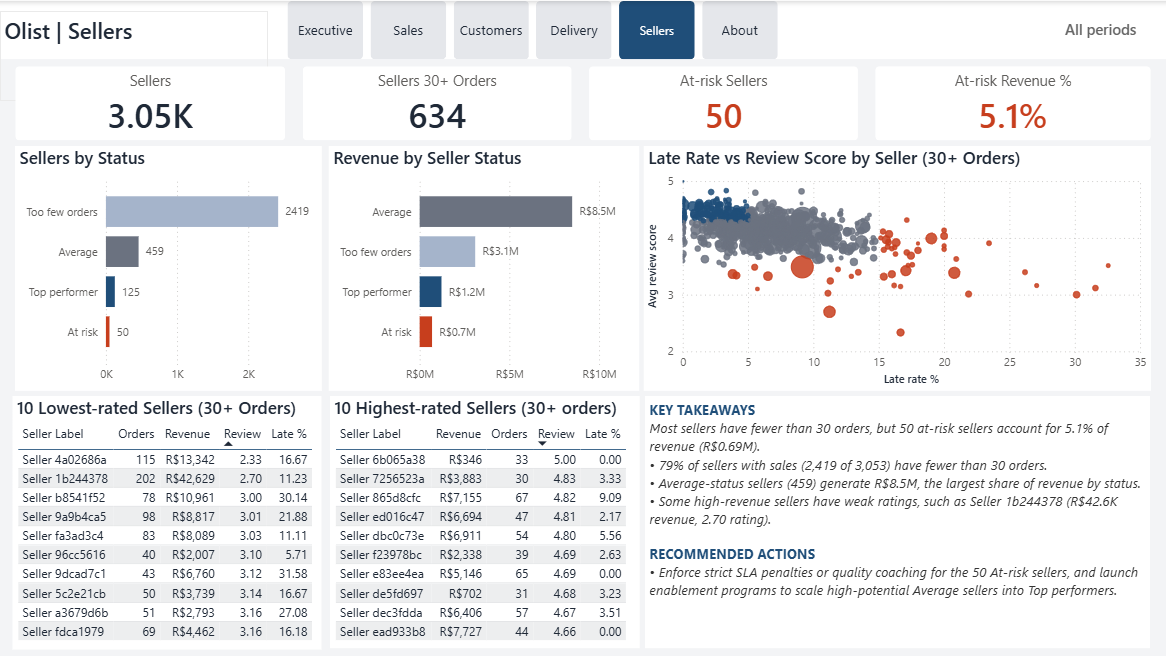

The page's visual inventory and layout, read from the dashboard file:
{"tool":"powerbi","page":{"name":"Sellers","canvas":[1280,720],"ordinal":4},"visuals":[{"type":"shape","box":[0,0,1280.3,63.8],"z":0},{"type":"textbox","box":[0,10.9,294,99.6],"z":1000},{"type":"pageNavigator","box":[315.6,0,541.1,64.4],"z":2000},{"type":"textbox","box":[1136.1,15.4,143.9,49.9],"z":3000},{"type":"cardVisual","fields":{"Data":["_Measures.Sellers"]},"box":[0,54.7,330,115],"z":4000},{"type":"cardVisual","fields":{"Data":["_Measures.Sellers 30+ Orders"]},"box":[314.9,54.7,329.4,115],"z":5000},{"type":"cardVisual","fields":{"Data":["_Measures.At-risk Sellers"]},"box":[629.3,54.7,329.4,115],"z":6000},{"type":"cardVisual","fields":{"Data":["_Measures.At-risk Revenue %"]},"box":[944.1,54.9,336.2,115],"z":7000},{"type":"clusteredBarChart","title":"Sellers by Status","fields":{"Category":["analytics seller_scorecard.seller_status"],"Y":["_Measures.Sellers"]},"box":[16.1,159,315.5,257.3],"z":8000},{"type":"clusteredBarChart","title":"Revenue by Seller Status","fields":{"Category":["analytics seller_scorecard.seller_status"],"Y":["_Measures.Scorecard Revenue"]},"box":[345.4,159,301.7,257.3],"z":9000},{"type":"scatterChart","title":"Late Rate vs Review Score by Seller (30+ Orders)","fields":{"Category":["analytics seller_scorecard.Seller Label"],"X":["Avg(analytics seller_scorecard.late_rate_pct)"],"Y":["Avg(analytics seller_scorecard.avg_review_score)"],"Size":["Sum(analytics seller_scorecard.revenue)"],"Series":["analytics seller_scorecard.seller_status"]},"box":[657.8,159,606.5,257.3],"z":10000},{"type":"tableEx","title":"10 Lowest-rated Sellers (30+ Orders)","fields":{"Values":["analytics seller_scorecard.Seller Label","Sum(analytics seller_scorecard.orders)","Sum(analytics seller_scorecard.revenue)","analytics seller_scorecard.avg_review_score","Sum(analytics seller_scorecard.late_rate_pct)"]},"box":[13.3,424.3,340,278.5],"z":11000},{"type":"tableEx","title":"10 Highest-rated Sellers (30+ orders)","fields":{"Values":["analytics seller_scorecard.Seller Label","Sum(analytics seller_scorecard.revenue)","Sum(analytics seller_scorecard.orders)","analytics seller_scorecard.avg_review_score","Sum(analytics seller_scorecard.late_rate_pct)"]},"box":[362.4,422,340.3,280.8],"z":12000},{"type":"textbox","box":[708.7,422,554,280.8],"z":13000}]}

Visuals, with their boxes in screenshot pixels (x1, y1, x2, y2), scaled from the page's 1280x720 canvas onto the 1166x656 screenshot:
shape: left=0, top=0, right=1165, bottom=58
textbox: left=0, top=10, right=268, bottom=101
pageNavigator: left=287, top=0, right=780, bottom=59
textbox: left=1035, top=14, right=1165, bottom=59
cardVisual - _Measures.Sellers: left=0, top=50, right=301, bottom=155
cardVisual - _Measures.Sellers 30+ Orders: left=287, top=50, right=587, bottom=155
cardVisual - _Measures.At-risk Sellers: left=573, top=50, right=873, bottom=155
cardVisual - _Measures.At-risk Revenue %: left=860, top=50, right=1165, bottom=155
"Sellers by Status" clusteredBarChart: left=15, top=145, right=302, bottom=379
"Revenue by Seller Status" clusteredBarChart: left=315, top=145, right=589, bottom=379
"Late Rate vs Review Score by Seller (30+ Orders)" scatterChart: left=599, top=145, right=1152, bottom=379
"10 Lowest-rated Sellers (30+ Orders)" tableEx: left=12, top=387, right=322, bottom=640
"10 Highest-rated Sellers (30+ orders)" tableEx: left=330, top=384, right=640, bottom=640
textbox: left=646, top=384, right=1150, bottom=640
